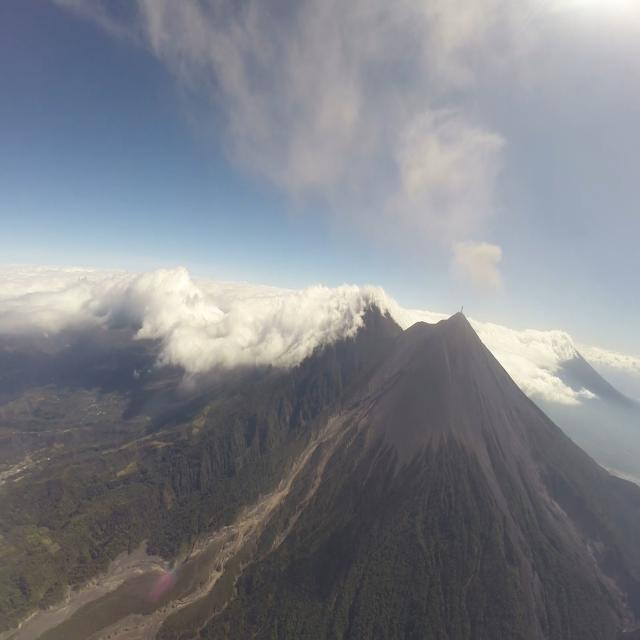Plume: (460, 304, 464, 313)
Summit: (436, 310, 472, 330)
